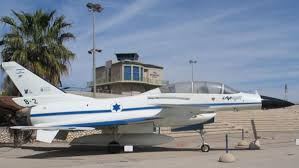fighter: (2, 55, 296, 147)
